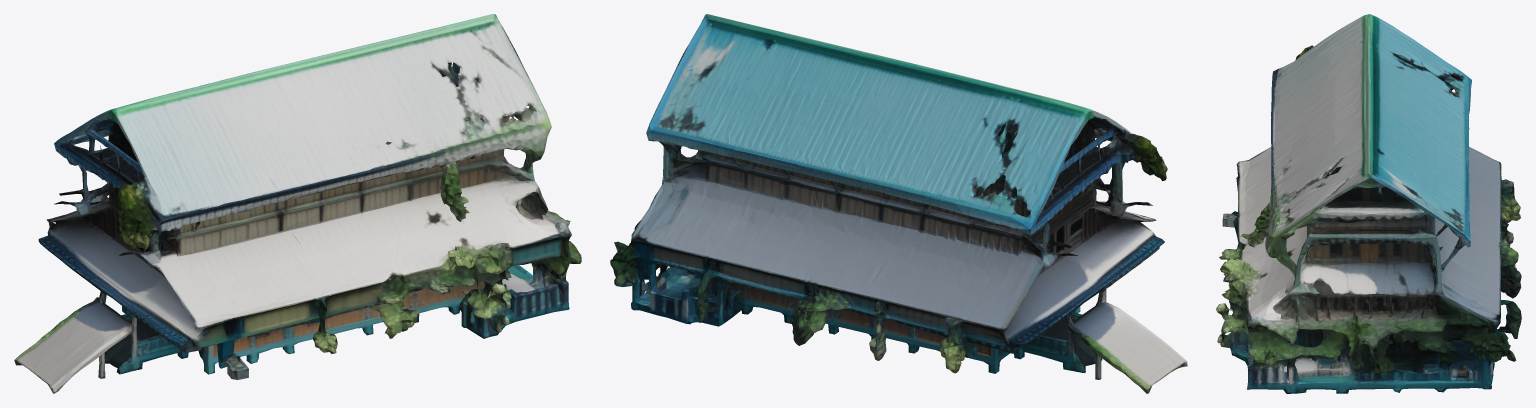
The model's file is sulawesi-tenggara.glb.
3 views of the same model, side by side, from view 1: azimuth 30°, elevation 25°; view 2: azimuth 150°, elevation 25°; view 3: azimuth 270°, elevation 25° (orthographic). The views are drawn at different scales.
Parts seen in each view (by area): view 1: world; view 2: world; view 3: world.
Part boxes in pixels (x1=…): world: x1=14, y1=14, x2=581, y2=393; world: x1=610, y1=14, x2=1187, y2=393; world: x1=1216, y1=14, x2=1521, y2=393.
Bounding box in the file's own units: 0.6978 × 0.3387 × 0.423.
1 material, 1 textured.
